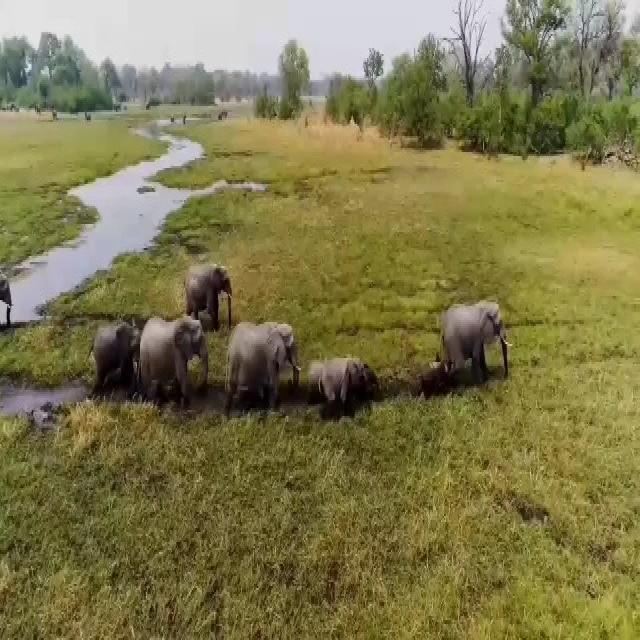Elephant: (440, 293, 522, 404), (225, 313, 306, 423), (138, 314, 218, 402), (314, 342, 389, 422), (81, 313, 140, 397), (182, 257, 240, 325)
